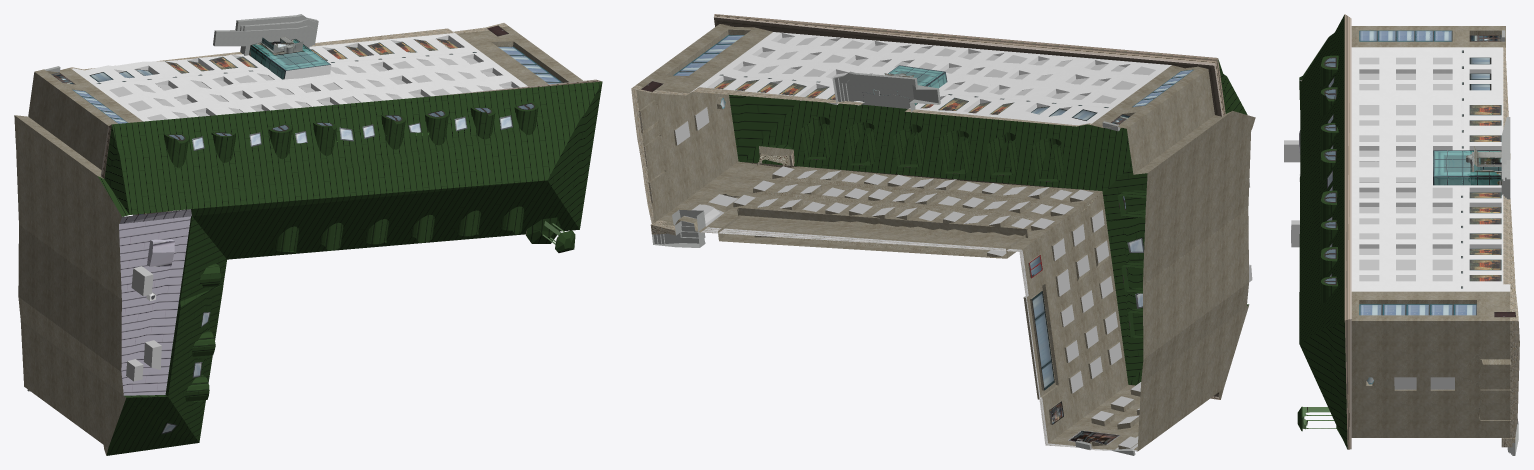
File: Viru_11-origo.obj
3 views of the same model, side by side, from view 1: azimuth 30°, elevation 25°; view 2: azimuth 150°, elevation 25°; view 3: azimuth 270°, elevation 25° (orthographic). The views are drawn at different scales.
Parts seen in each view (by area): view 1: Viru_11; view 2: Viru_11; view 3: Viru_11.
Part boxes in pixels (bbox=[...]): Viru_11: bbox=[14, 14, 602, 455]; Viru_11: bbox=[631, 14, 1255, 455]; Viru_11: bbox=[1284, 14, 1519, 455].
Size of the model in its own units: 55 by 35.5 by 22.97.
